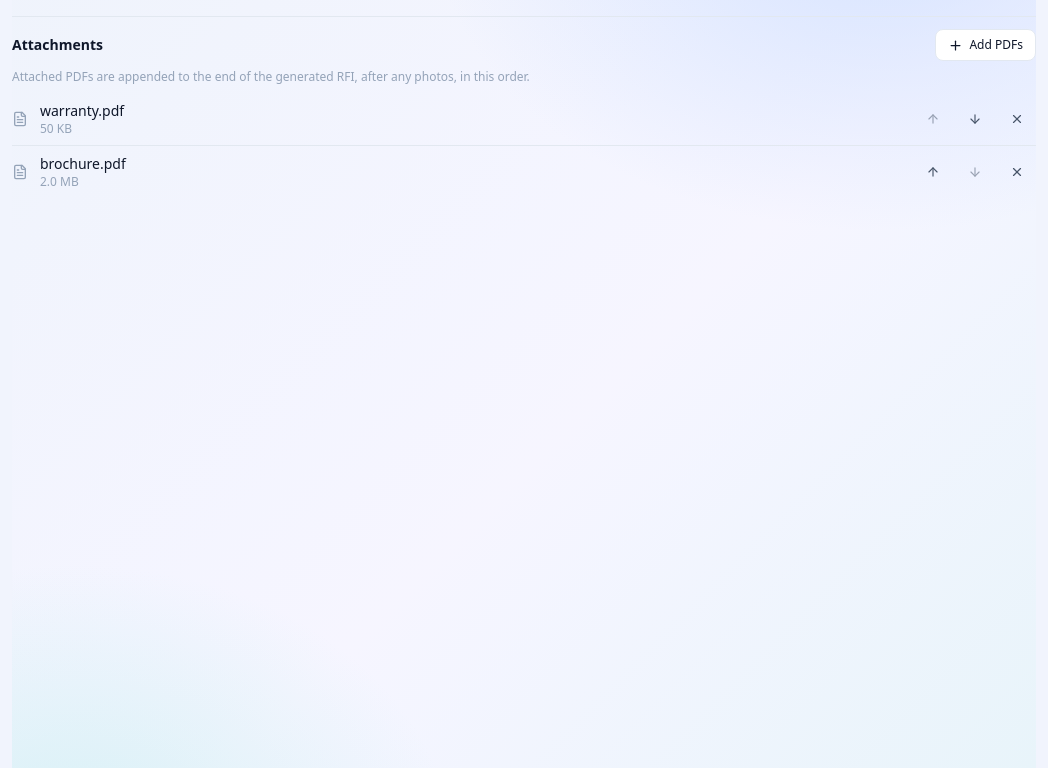
Test case: PdfAttachmentsCard › reorder: if the second update fails, toasts and still resyncs
Click the button named "Move up" in the row of "brochure.pdf".
click(933, 172)  # box [914, 156, 952, 188]
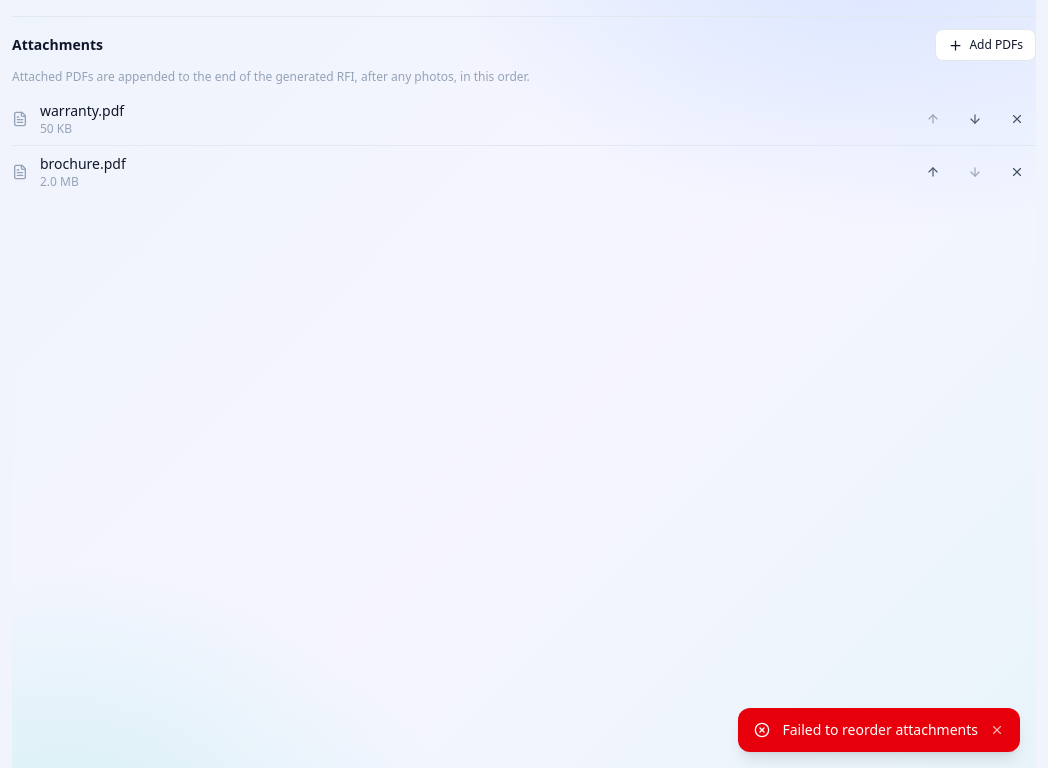
Now the text "Failed to reorder attachments" is shown, box [782, 720, 978, 740]
